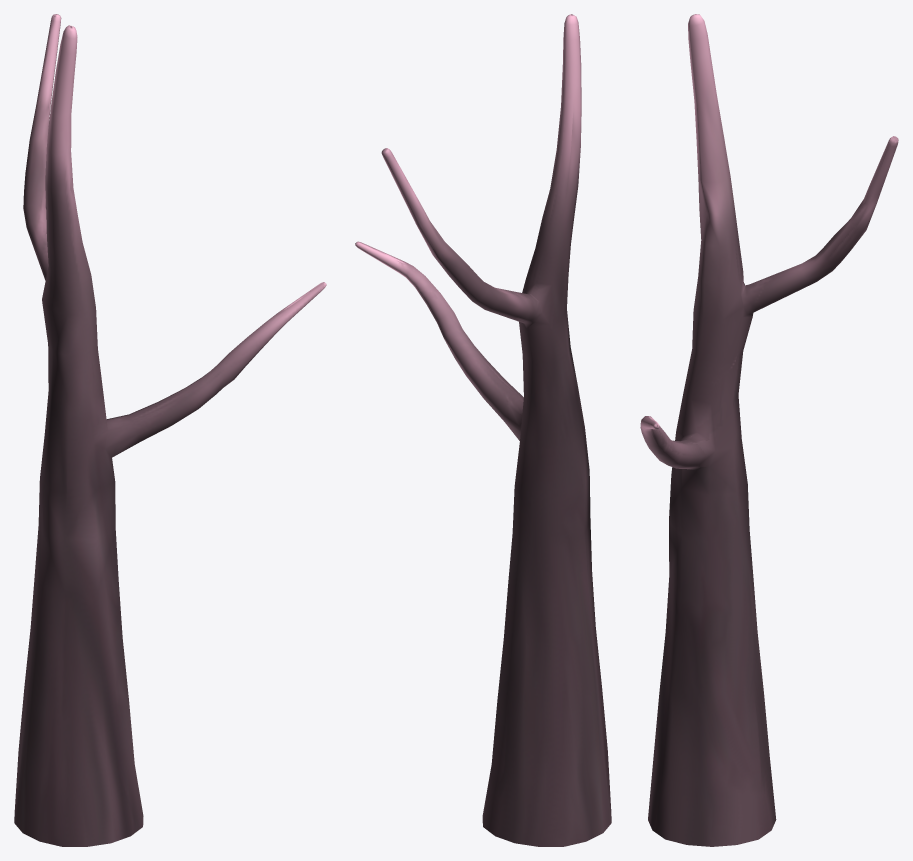
The model's file is Tree03.fbx.
3 views of the same model, side by side, from view 1: azimuth 30°, elevation 25°; view 2: azimuth 150°, elevation 25°; view 3: azimuth 270°, elevation 25° (orthographic).
Visible parts, largest first — view 1: Tree03; view 2: Tree03; view 3: Tree03.
Part boxes in pixels (bbox=[...]): Tree03: bbox=[14, 14, 326, 846]; Tree03: bbox=[355, 14, 611, 846]; Tree03: bbox=[640, 14, 898, 846].
Size of the model in its own units: 22.07 by 61.53 by 18.03.
